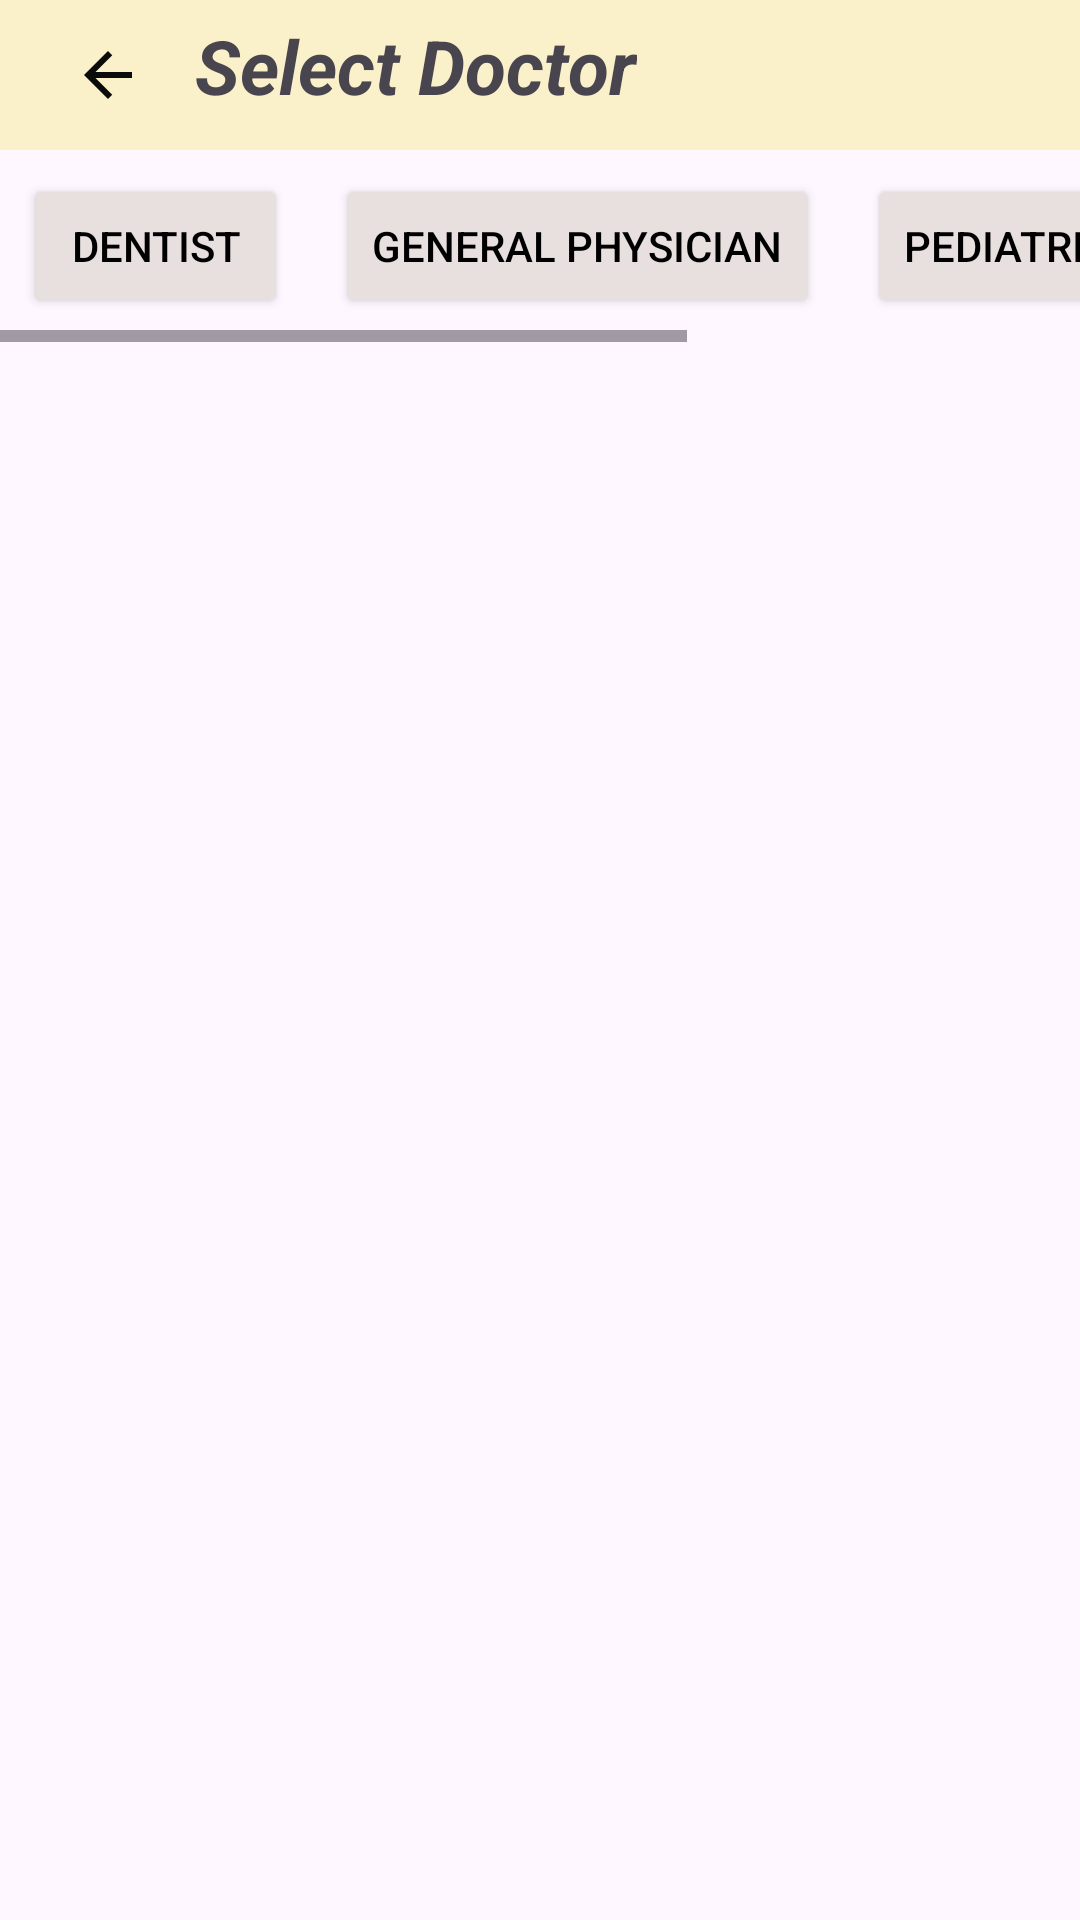

Icons on this 1080px x 1920px Android screen, each with its box as (x1, y1, x2, y2):
back arrow: (84, 51, 132, 99)
